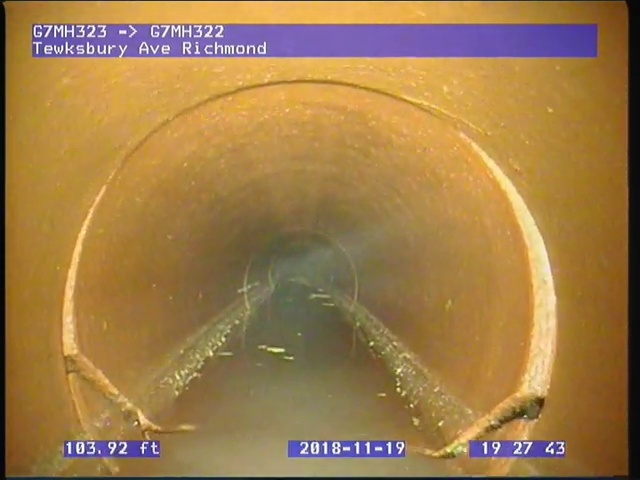crack: (58, 348, 197, 441), (422, 391, 547, 459)
